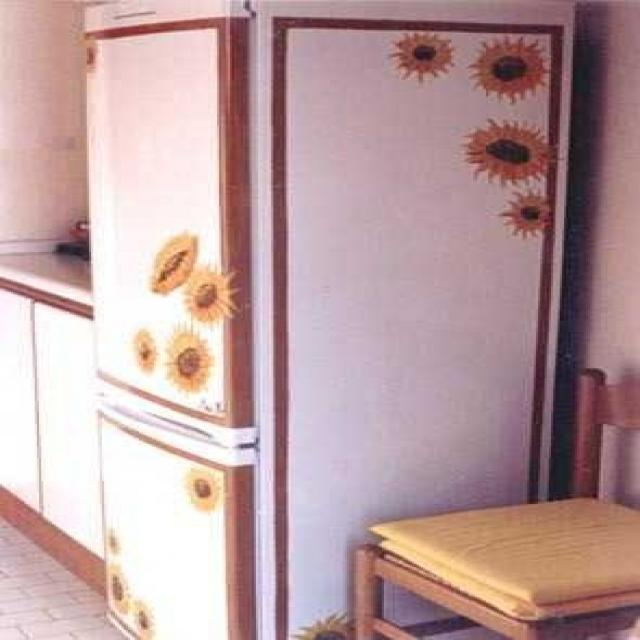refrigerator: (85, 0, 268, 640)
